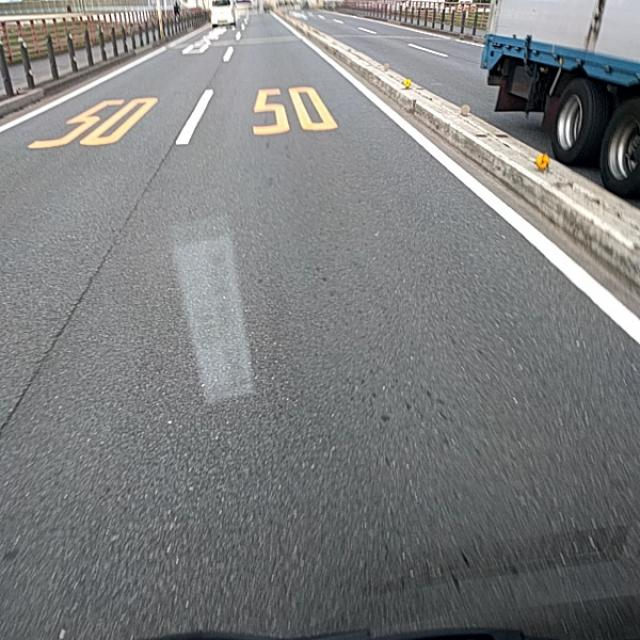pothole: (60, 260, 98, 326)
